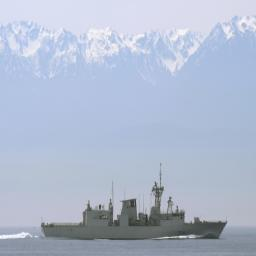Fragata: (40, 163, 231, 244)
